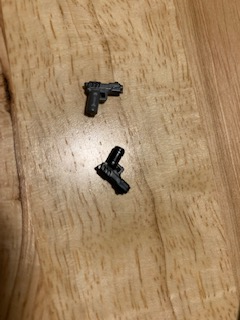pistol: (93, 145, 136, 197), (80, 79, 126, 119)
